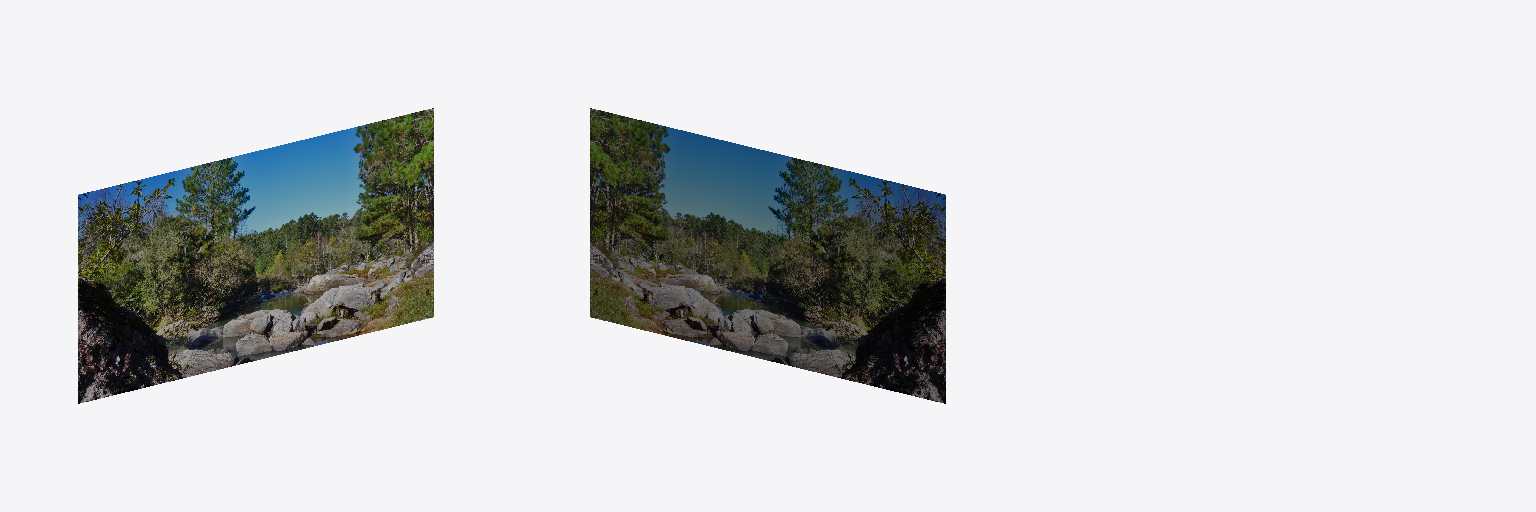
The picture shows the model from 3 angles: view 1: azimuth 30°, elevation 25°; view 2: azimuth 150°, elevation 25°; view 3: azimuth 270°, elevation 25°; orthographic projection.
Visible parts, largest first — view 1: 073_Arroio_Cadeia; view 2: 073_Arroio_Cadeia; view 3: none.
Part boxes in pixels (bbox=[...]): 073_Arroio_Cadeia: bbox=[78, 108, 433, 403]; 073_Arroio_Cadeia: bbox=[590, 108, 945, 403].
Bounding box in the file's own units: 1.78 × 1 × 0.
Materials: 1 (1 with a texture image).